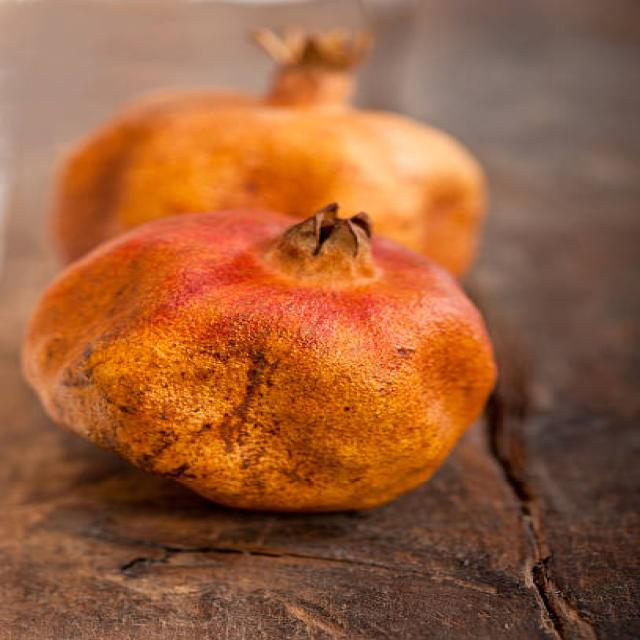overripe: (16, 204, 511, 518)
